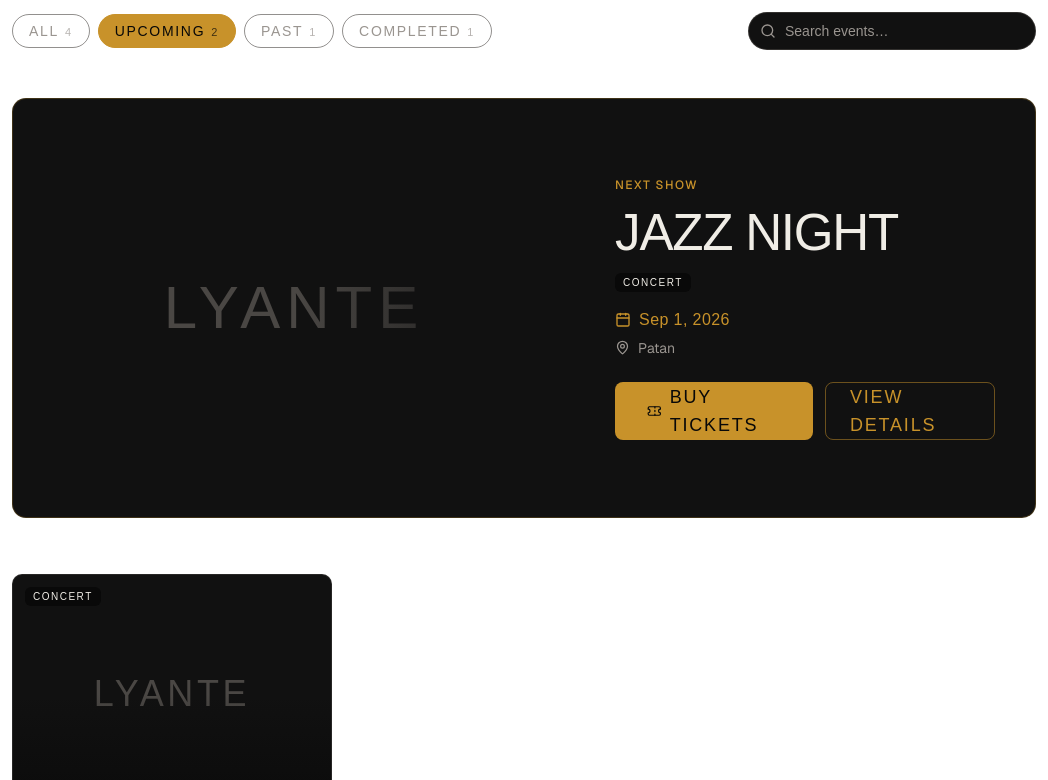
Test: EventsBrowser — search › offers a working clear action when nothing matches
In the search field labelled "Search events…": (892, 31) 748,12 -> 1036,50, type "nothingmatchesthis"
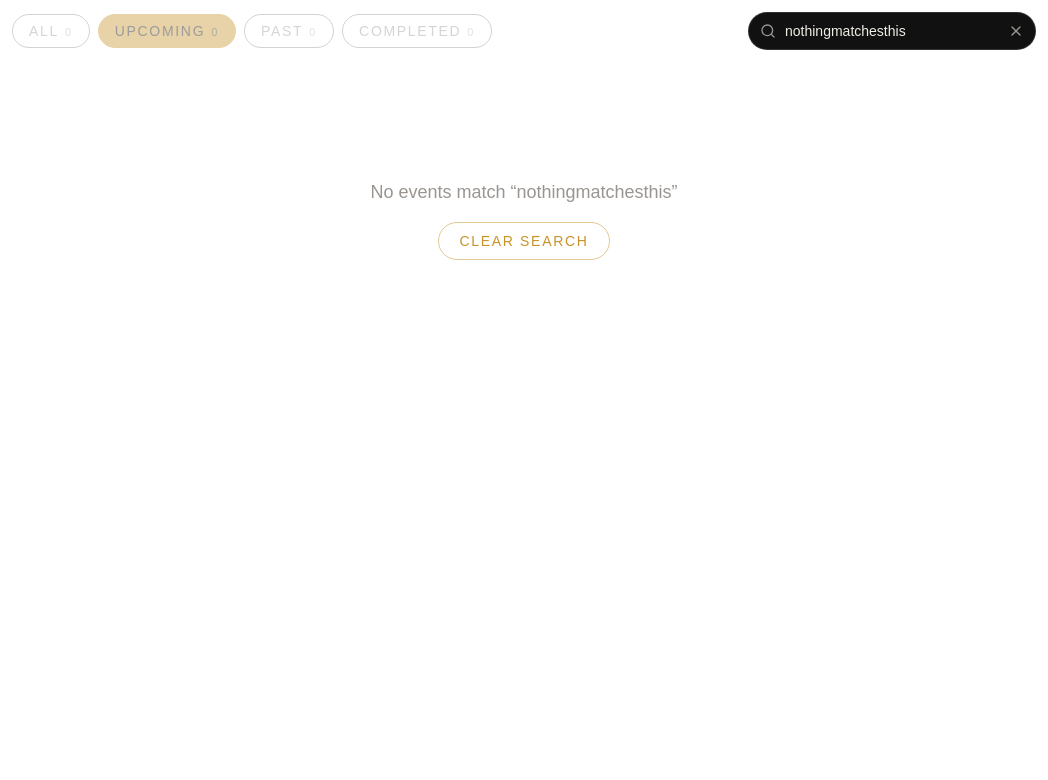
Check: the text "No events match “nothingmatchesthis”" is shown, box 370,178 -> 678,206
Click the button "Clear search": click(524, 241) 438,222 -> 610,260
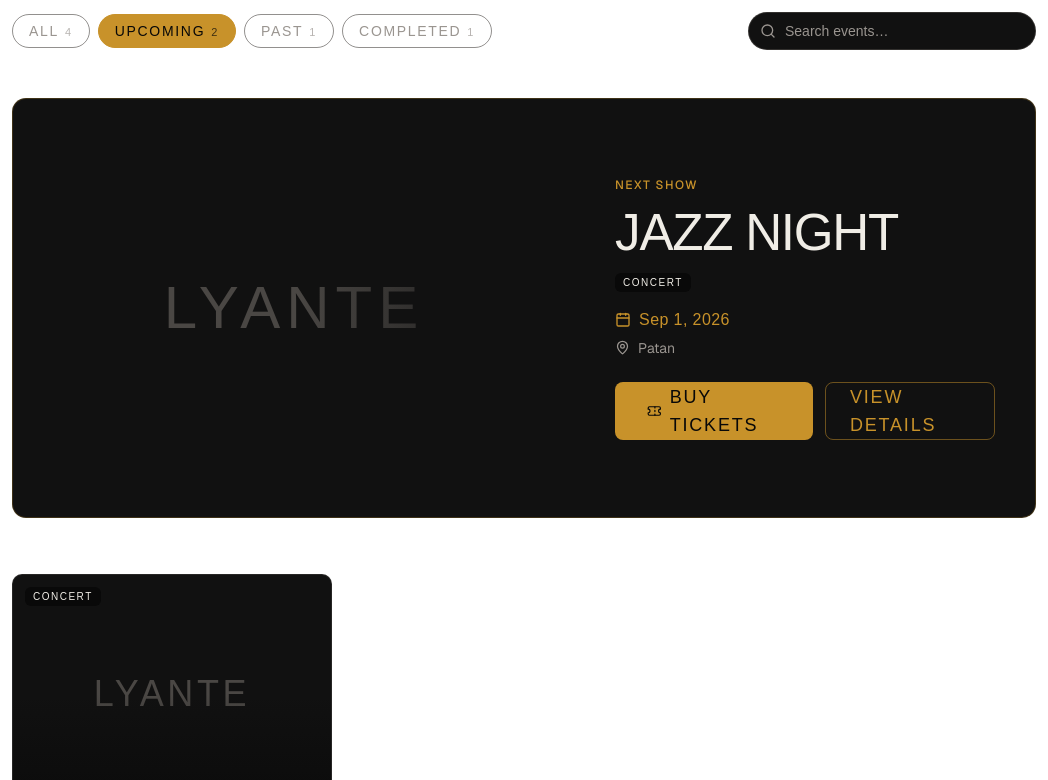
Check: the text "No events match" is gone
Check: the heading reads "Jazz Night", box 615,204 -> 898,262
